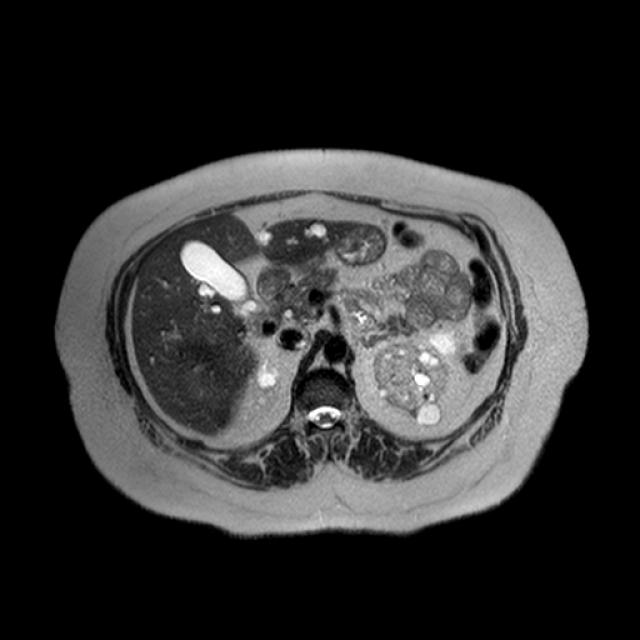sag: (244, 361, 282, 416)
sol: (375, 337, 449, 426)
